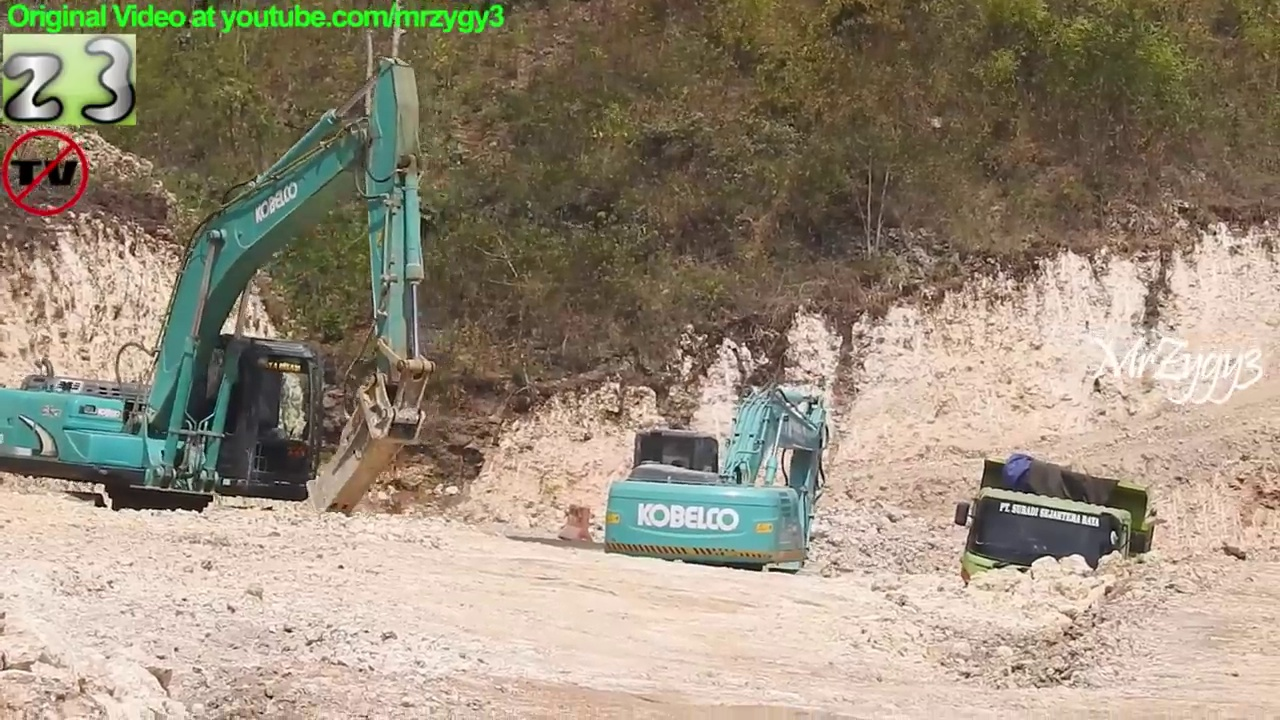excavator: (1, 50, 441, 550), (599, 385, 831, 613)
truck: (947, 450, 1168, 659)
